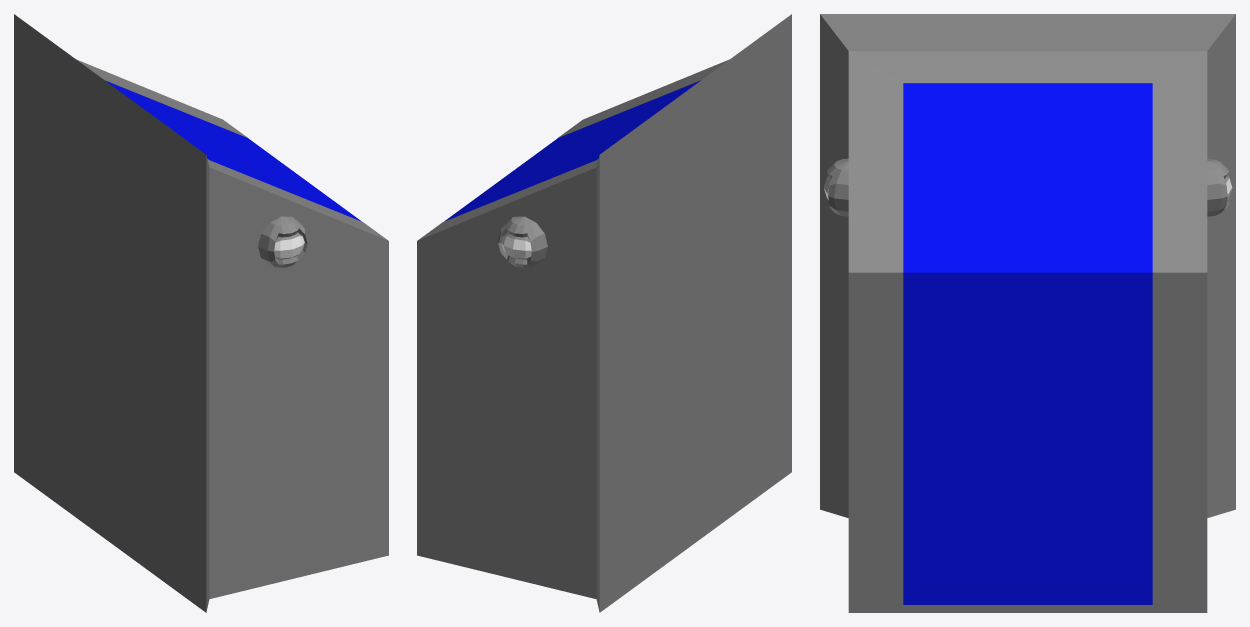
File: CryoChamber.fbx
3 renders of one model, left to right at view 1: azimuth 30°, elevation 25°; view 2: azimuth 150°, elevation 25°; view 3: azimuth 270°, elevation 25°, orthographic. The views are drawn at different scales.
Visible parts, largest first — view 1: Chamber, Door; view 2: Chamber, Door; view 3: Door, Chamber.
Boxes of the visible parts, left/top/right/bottom form: Chamber: left=14, top=14, right=388, bottom=612; Door: left=105, top=80, right=361, bottom=221; Chamber: left=417, top=14, right=791, bottom=612; Door: left=444, top=80, right=700, bottom=221; Door: left=903, top=83, right=1152, bottom=604; Chamber: left=820, top=14, right=1235, bottom=612.
Size of the model in its own units: 218 by 488 by 371.
